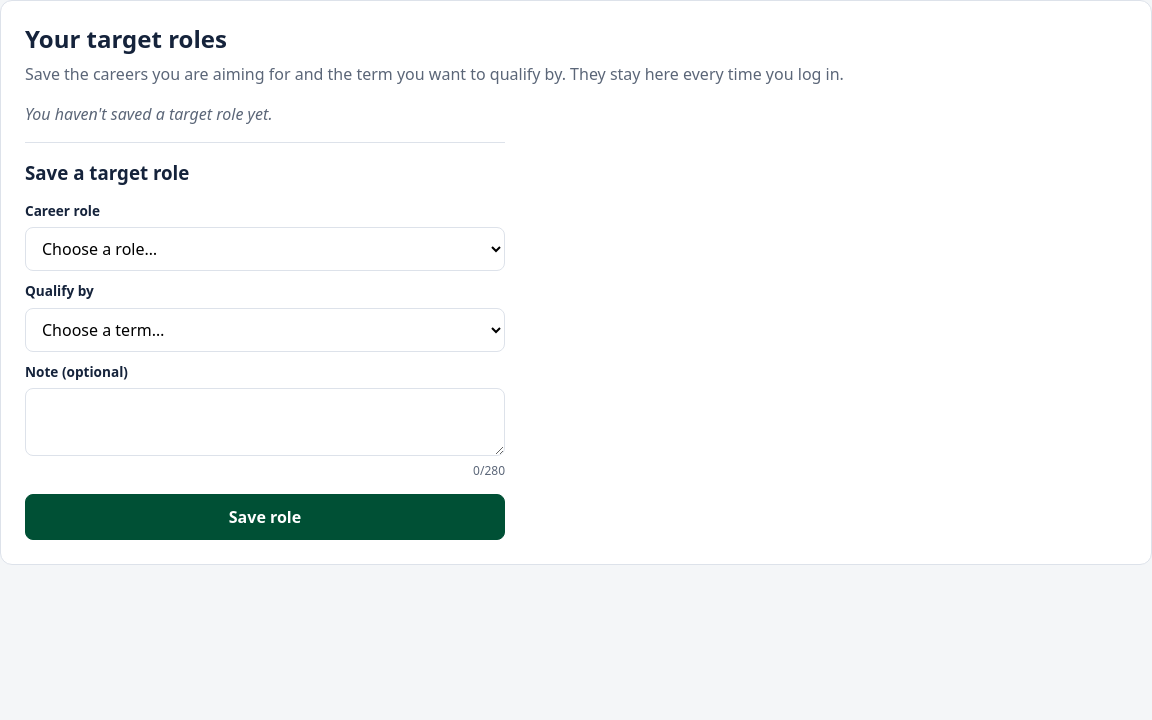
Test: Issue #3: SavedRoles component › adds the saved role to the list after the server accepts it
Select "Data Analyst" in the dropdown labelled "Career role" at {"x": 265, "y": 249}, box [25,227,505,271]
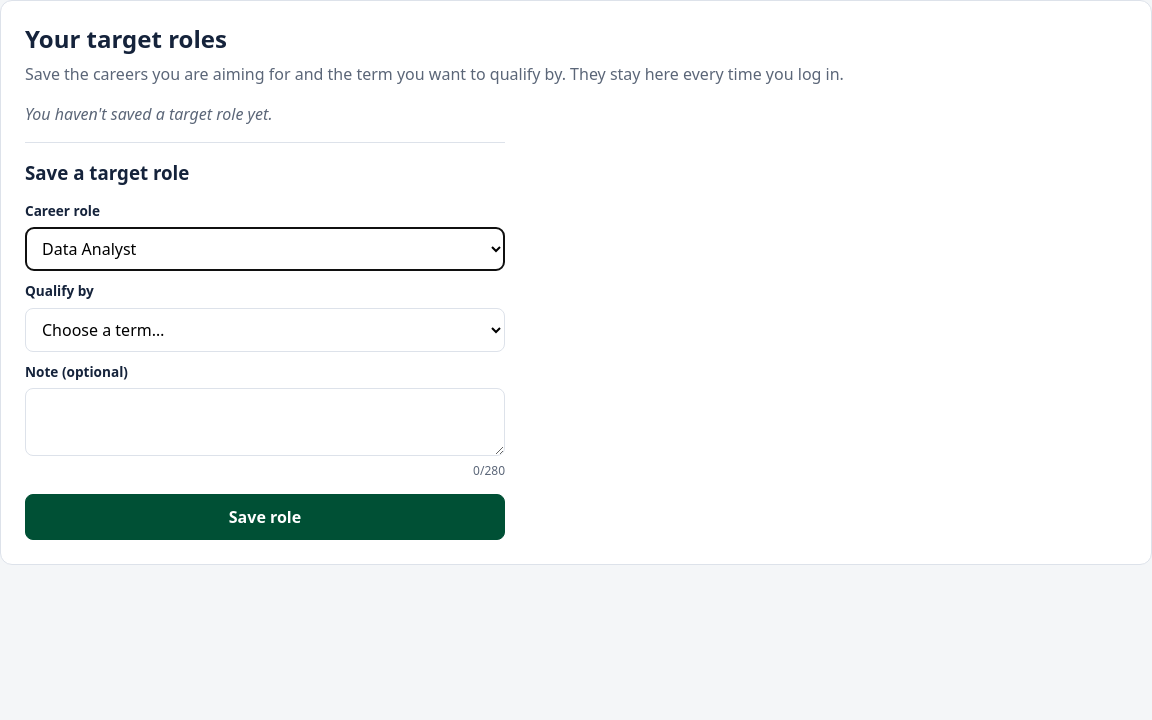
Select "Fall 2027" in the dropdown labelled "Qualify by" at {"x": 265, "y": 330}, box [25,308,505,352]
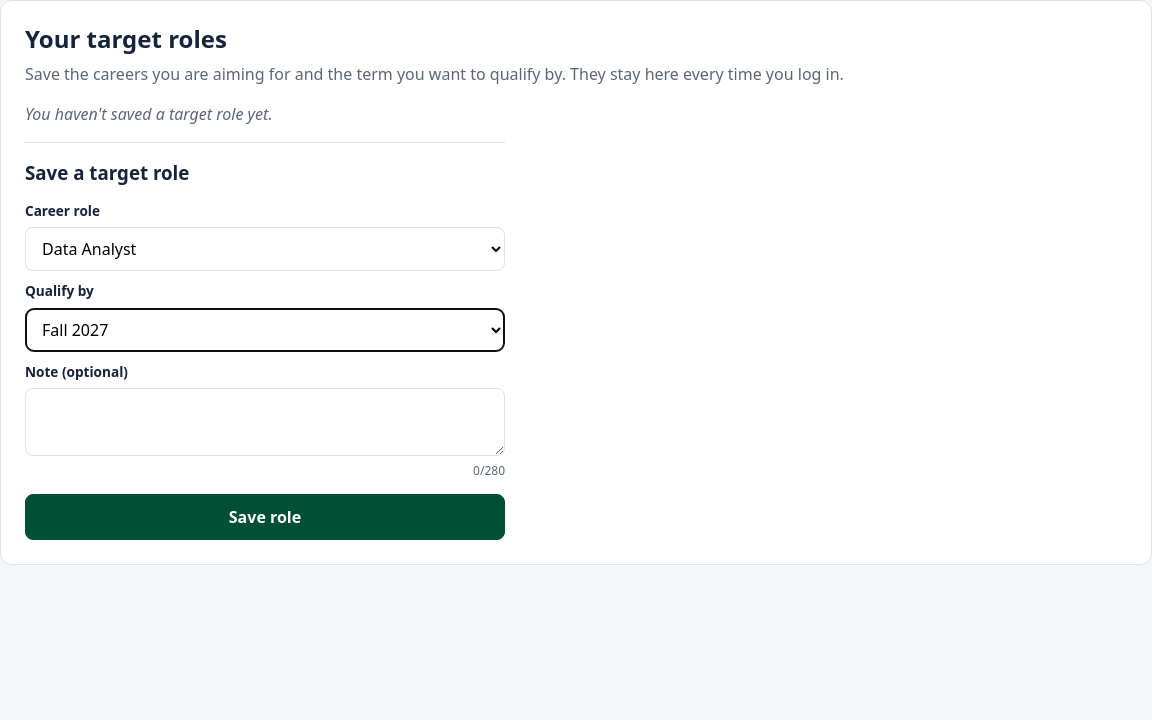
Click the button "Save role" at {"x": 265, "y": 517}, box [25,494,505,540]
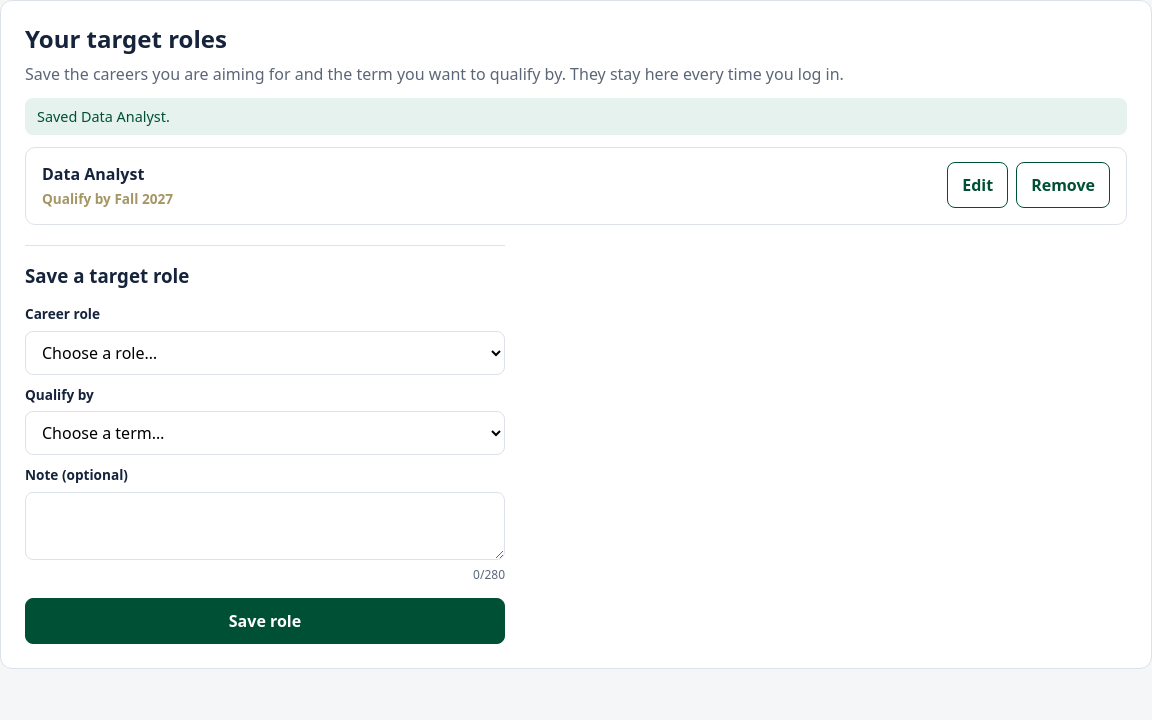
Expected: the message reads "Saved Data Analyst.", [37,107,170,126]
